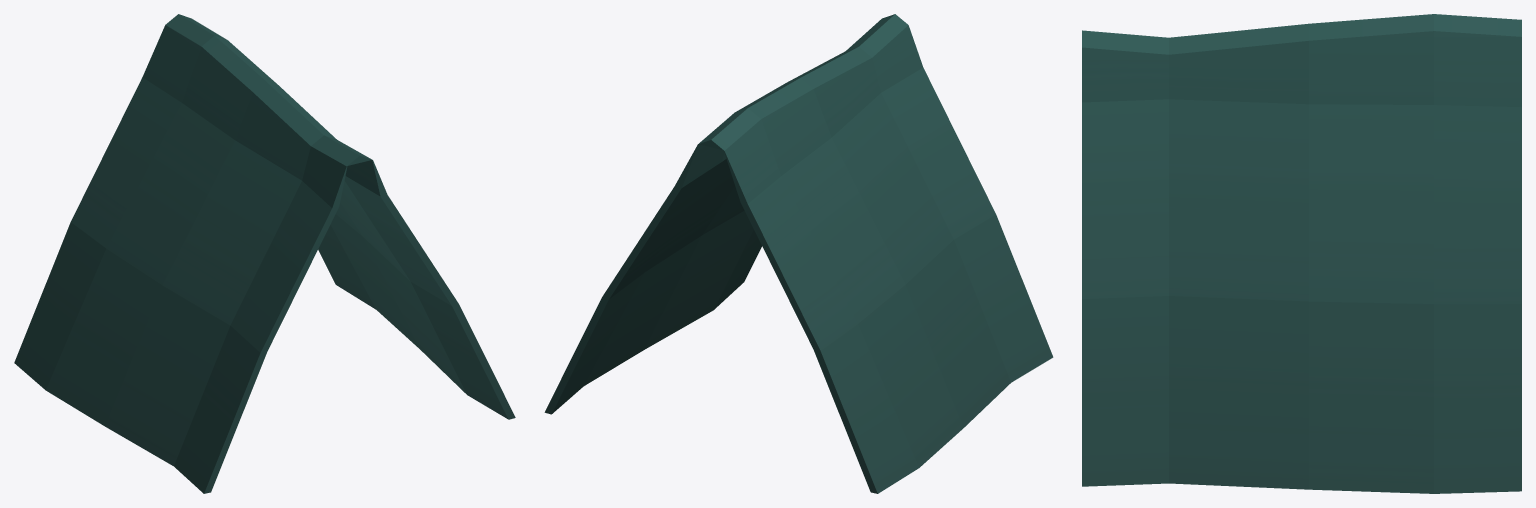
The model's file is Tent_top.fbx.
The picture shows the model from 3 angles, left to right: view 1: azimuth 30°, elevation 25°; view 2: azimuth 150°, elevation 25°; view 3: azimuth 270°, elevation 25°; orthographic projection. The views are drawn at different scales.
Parts seen in each view (by area): view 1: Cube.001; view 2: Cube.001; view 3: Cube.001.
Boxes of the visible parts, x1=… form: Cube.001: x1=14, y1=14, x2=515, y2=493; Cube.001: x1=544, y1=14, x2=1053, y2=493; Cube.001: x1=1082, y1=14, x2=1521, y2=493.
Size of the model in its own units: 514 by 457 by 478.
1 material, 1 textured.
